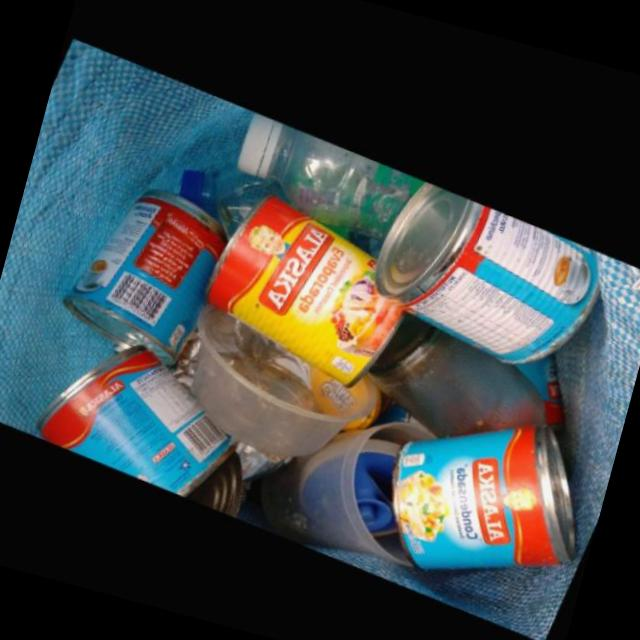chai_nhua_pet: (240, 111, 428, 235)
chai_thuy_tinh: (370, 310, 554, 435)
hop_nhua: (196, 302, 382, 458), (260, 406, 438, 564)
nhom: (376, 178, 603, 361), (209, 193, 411, 384), (43, 344, 244, 498), (67, 187, 231, 367), (397, 423, 582, 569)
